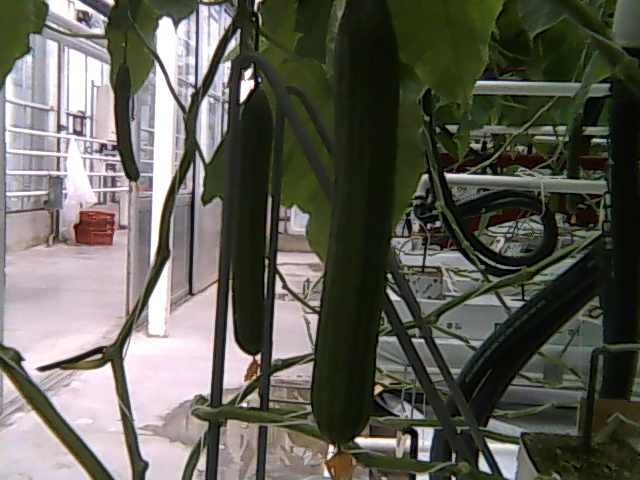concombre: (307, 1, 408, 480)
